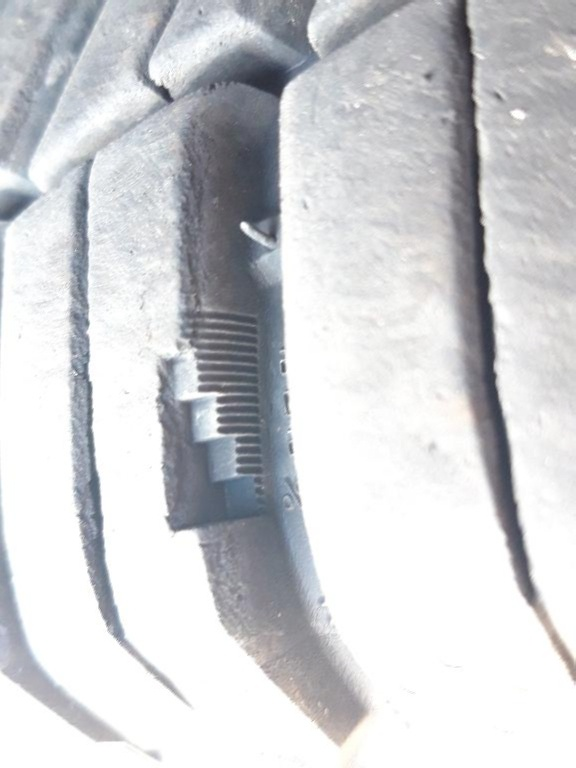temoin:80: (146, 300, 278, 544)
